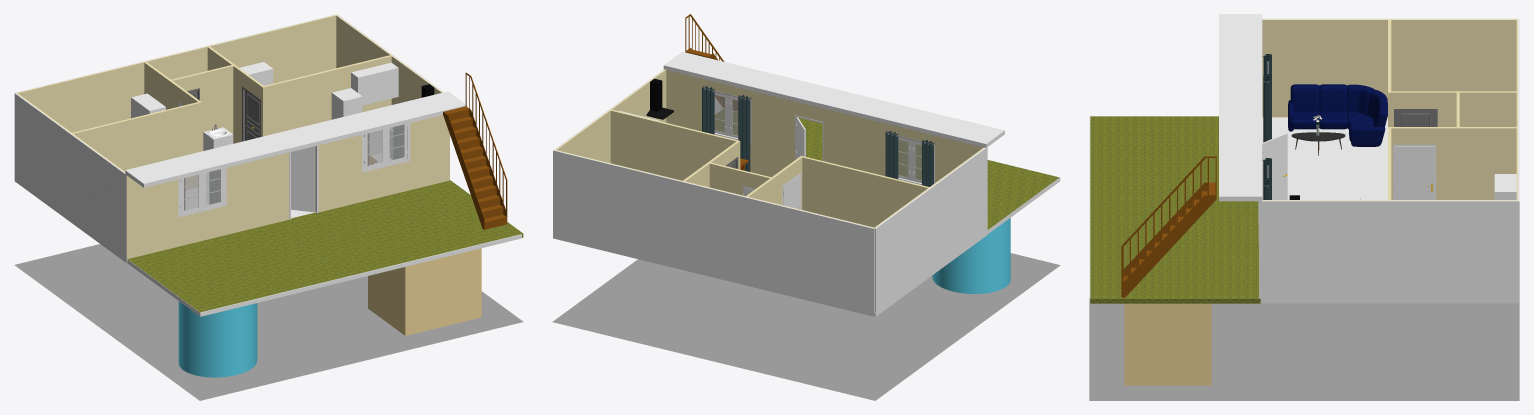
The model's file is planoceci1.glb.
3 renders of one model, left to right at view 1: azimuth 30°, elevation 25°; view 2: azimuth 150°, elevation 25°; view 3: azimuth 270°, elevation 25°, orthographic. The views are drawn at different scales.
Visible parts, largest first — view 1: ground_1, room_18_94, wall_1_4, room_17_93, front_494, wall_2_11, texturableCylinder_32_487, wall_5_29, wall_8_46, wall_9_52, wall_15_89, wall_3_16 (+17 smaller); view 2: ground_1, wall_5_28, wall_15_88, wall_1_5, room_17_93, wall_14_82, wall_3_17, wall_2_10, wall_9_52, wall_8_46, room_18_94, texturableCylinder_32_487 (+10 smaller); view 3: ground_1, room_18_94, wall_6_34, wall_7_40, wall_9_53, wall_8_47, room_17_93, right_492, room_16_92, wall_13_77, wall_12_71, sweethome3d_opening_on_hinge_1_door_165 (+15 smaller).
Part boxes in pixels (bbox=[...]): ground_1: bbox=[14, 244, 523, 400]; room_18_94: bbox=[128, 180, 523, 312]; wall_1_4: bbox=[126, 115, 449, 262]; room_17_93: bbox=[125, 91, 466, 187]; front_494: bbox=[405, 248, 481, 335]; wall_2_11: bbox=[73, 102, 201, 189]; texturableCylinder_32_487: bbox=[178, 301, 257, 377]; wall_5_29: bbox=[18, 62, 144, 132]; wall_8_46: bbox=[70, 134, 126, 262]; wall_9_52: bbox=[14, 93, 70, 221]; wall_15_89: bbox=[210, 15, 336, 83]; wall_3_16: bbox=[263, 56, 391, 136]; ground_1: bbox=[552, 253, 1060, 400]; wall_5_28: bbox=[745, 197, 874, 316]; wall_15_88: bbox=[553, 150, 682, 269]; wall_1_5: bbox=[666, 70, 983, 182]; room_17_93: bbox=[663, 51, 1004, 147]; wall_14_82: bbox=[682, 182, 745, 285]; wall_3_17: bbox=[610, 111, 736, 180]; wall_2_10: bbox=[802, 157, 927, 227]; wall_9_52: bbox=[875, 188, 931, 316]; wall_8_46: bbox=[931, 147, 987, 275]; room_18_94: bbox=[715, 109, 1059, 229]; texturableCylinder_32_487: bbox=[932, 218, 1010, 293]; ground_1: bbox=[1089, 302, 1519, 400]; room_18_94: bbox=[1090, 116, 1260, 303]; wall_6_34: bbox=[1389, 201, 1519, 303]; wall_7_40: bbox=[1259, 201, 1389, 303]; wall_9_53: bbox=[1391, 20, 1516, 91]; wall_8_47: bbox=[1262, 20, 1387, 117]; room_17_93: bbox=[1219, 14, 1262, 201]; right_492: bbox=[1124, 303, 1211, 385]; room_16_92: bbox=[1089, 116, 1387, 302]; wall_13_77: bbox=[1458, 128, 1516, 199]; wall_12_71: bbox=[1391, 128, 1457, 199]; sweethome3d_opening_on_hinge_1_door_165: bbox=[1395, 146, 1434, 199].
Size of the model in its own units: 1009 by 624 by 1002.
40 materials, 1 textured.
